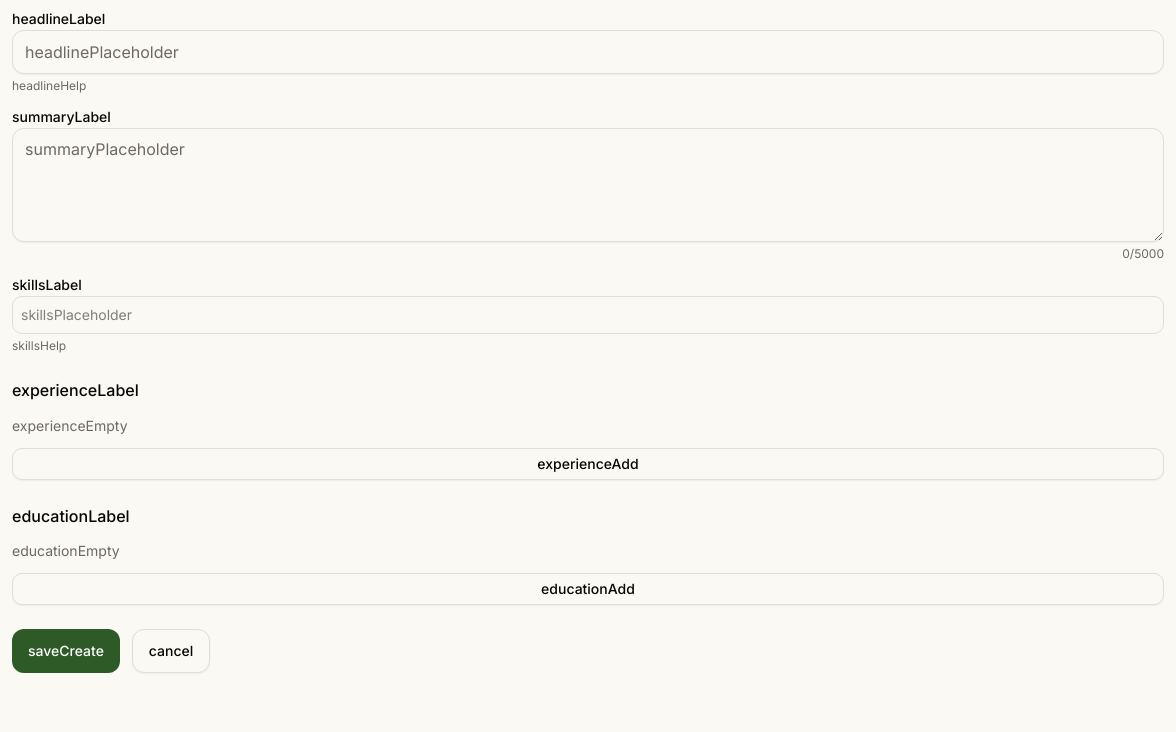
Test: SeekerProfileForm › add experience row — focus moves to new row title input
This screenshot has width=1176, height=732.
Click the button "experienceAdd".
click(588, 464)  # box left=12, top=448, right=1164, bottom=480
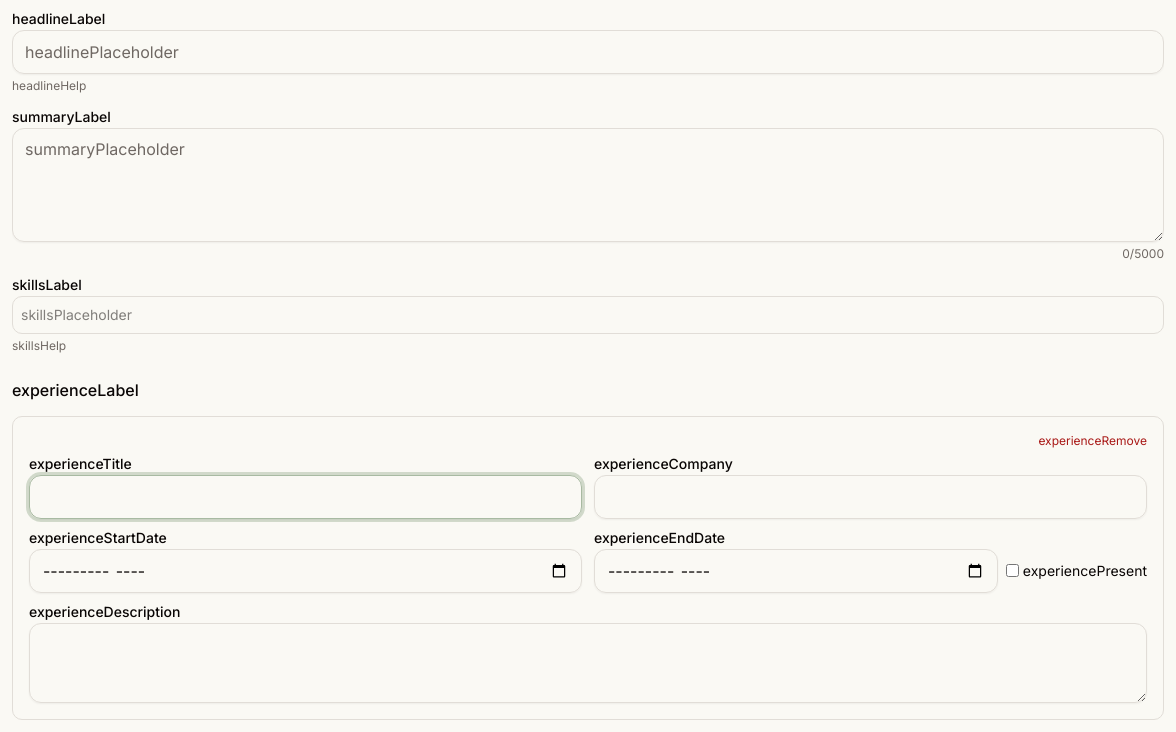
Expected: the field labelled "experienceTitle" is shown, left=29, top=475, right=582, bottom=519
